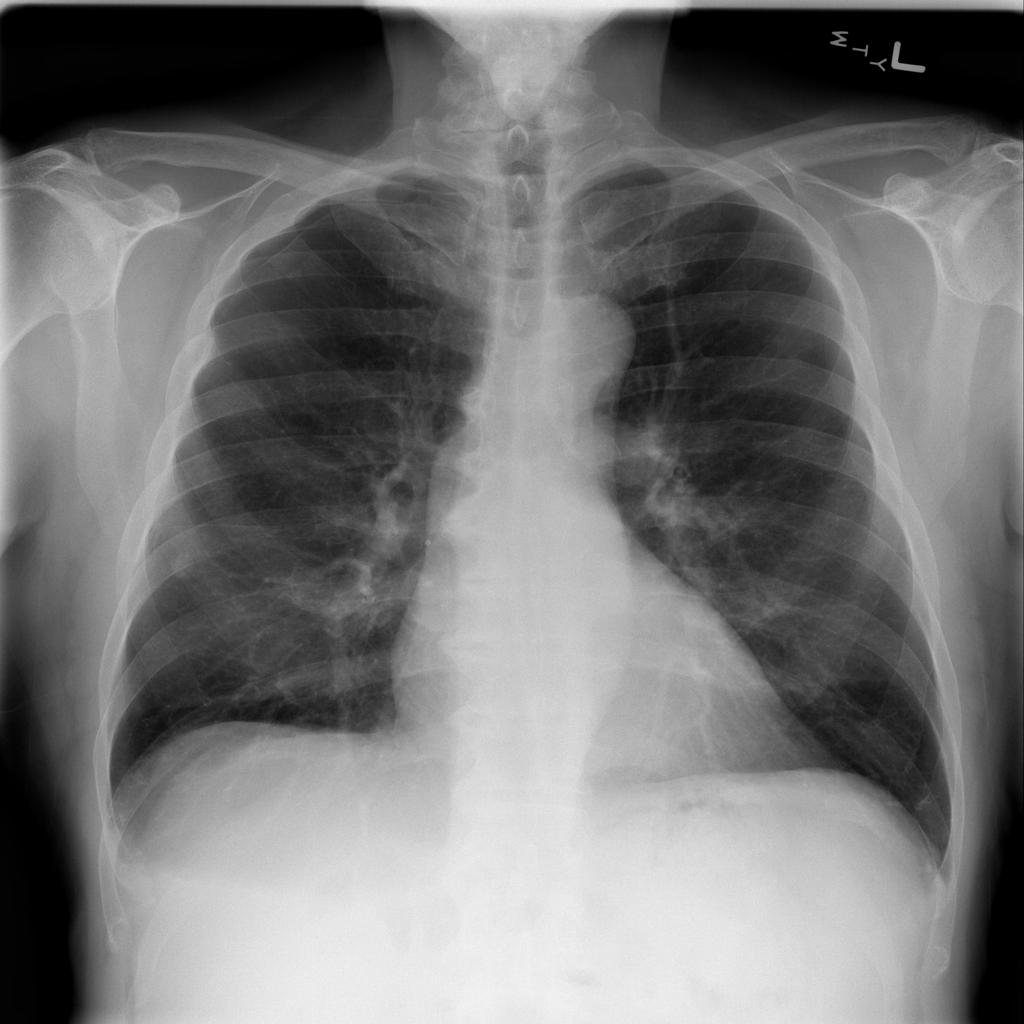nodule: (158, 538, 211, 587)
